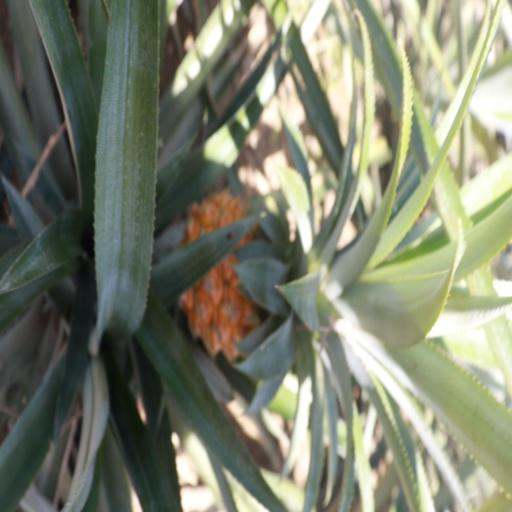Pineapple - v8 v1: (184, 193, 453, 371)
